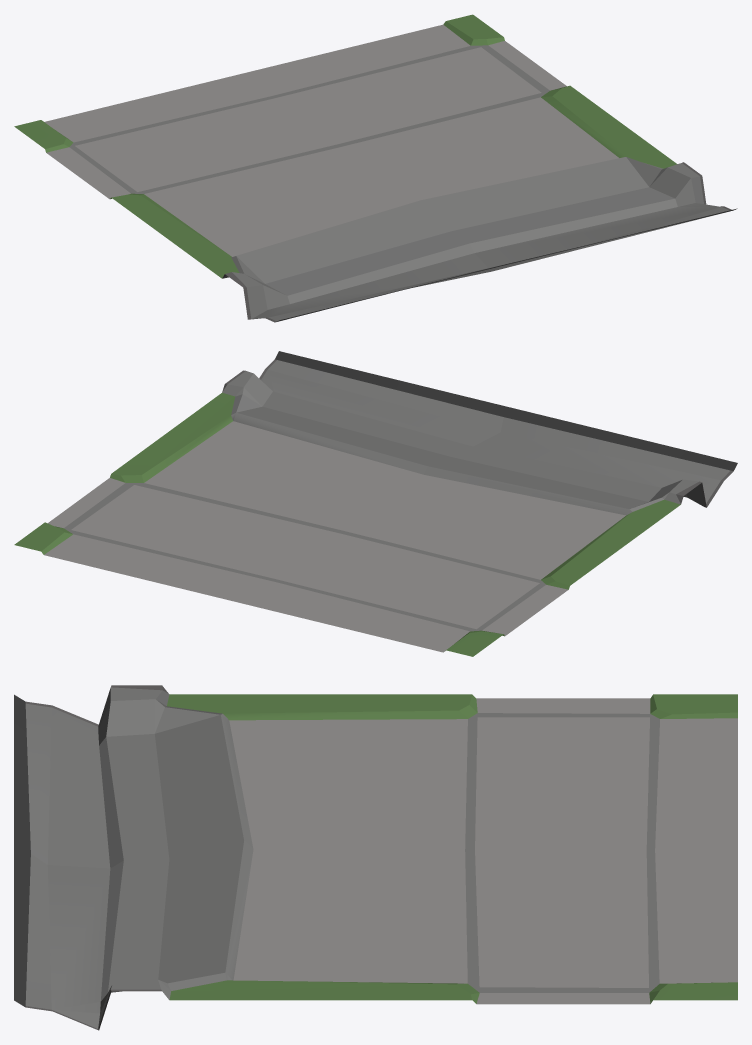
File: SM_Env_Sidewalk_Driveway_Wide_01.fbx
The picture shows the model from 3 angles, top to bottom: view 1: azimuth 30°, elevation 25°; view 2: azimuth 150°, elevation 25°; view 3: azimuth 270°, elevation 25°; orthographic projection. The views are drawn at different scales.
Visible parts, largest first — view 1: SM_Env_Sidewalk_Driveway_Wide_01; view 2: SM_Env_Sidewalk_Driveway_Wide_01; view 3: SM_Env_Sidewalk_Driveway_Wide_01.
Boxes of the visible parts, x1,y1,x2,y2 form: SM_Env_Sidewalk_Driveway_Wide_01: (14,14,737,322); SM_Env_Sidewalk_Driveway_Wide_01: (14,351,737,656); SM_Env_Sidewalk_Driveway_Wide_01: (14,685,737,1030).
Size of the model in its own units: 500 by 30 by 500.
